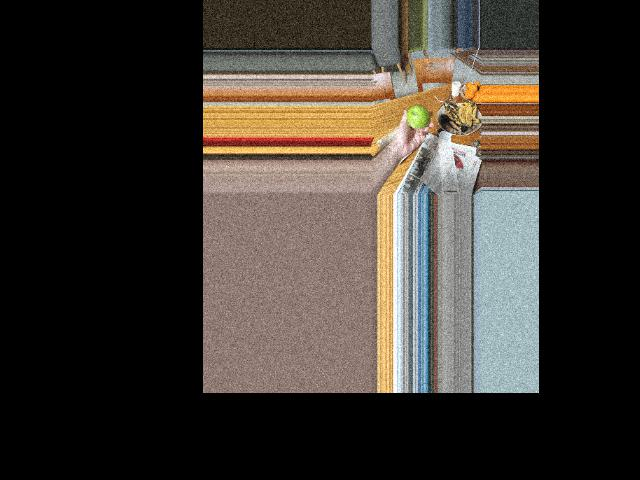apple: (405, 103, 430, 128)
